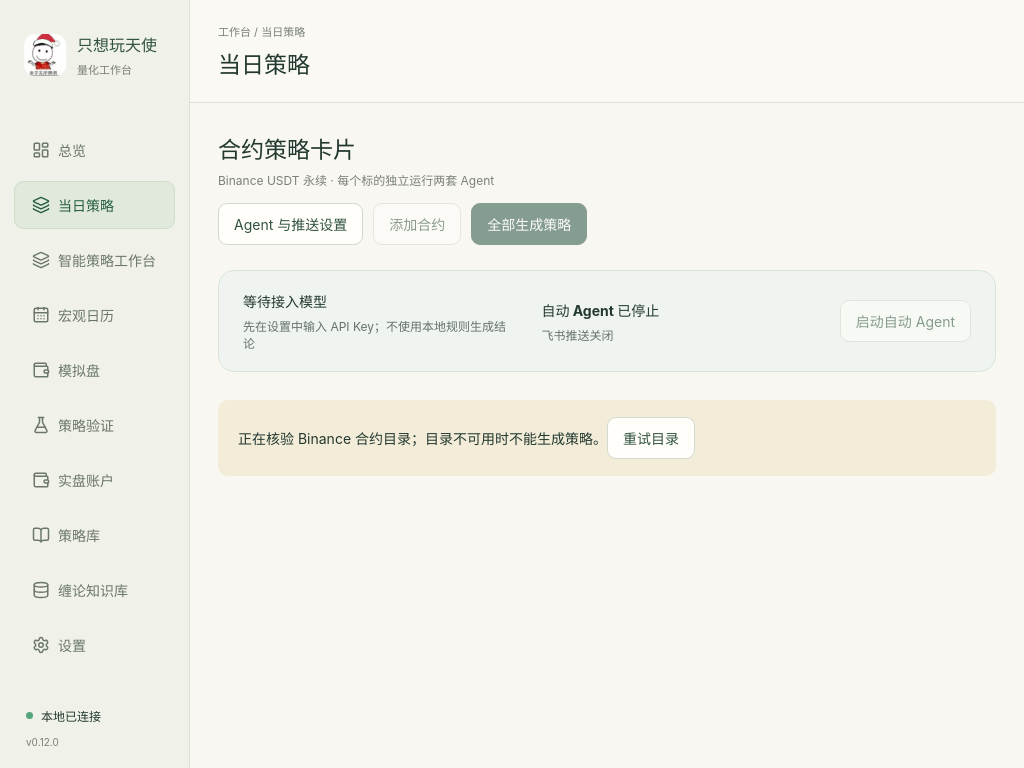
Test case: knowledge base answers with timestamped evidence
This screenshot has width=1024, height=768.
Expected: the heading "合约策略卡片" is shown, [218,136,356,164]
Click the button "缠论知识库".
click(94, 590)  # box [14,566,175,614]
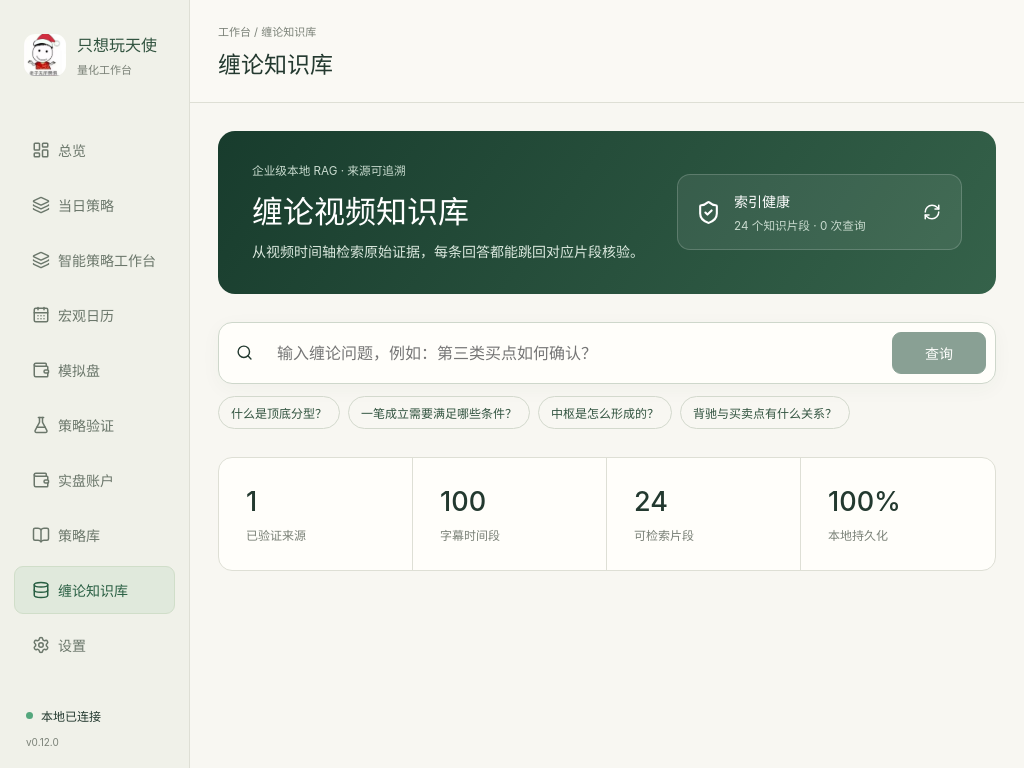
Expected: the text "索引健康" is shown, [734,193,790,210]
Type "顶分型是什么" into the field named "向知识库提问".
click(573, 353); type("顶分型是什么")  # box [265,331,880,375]
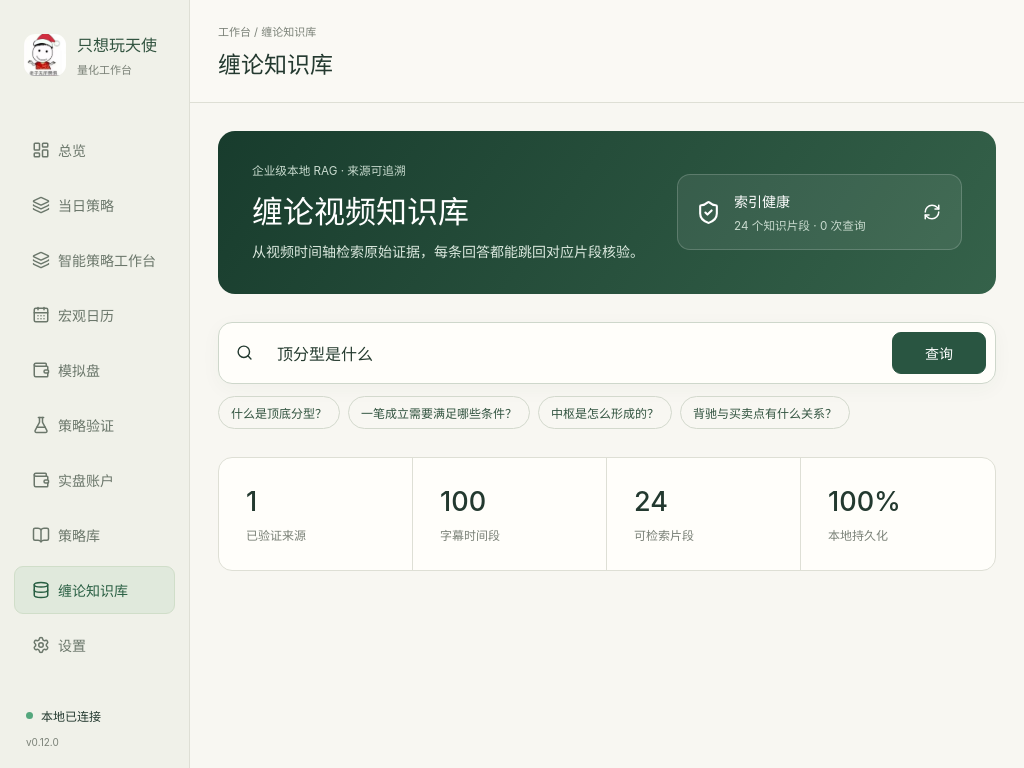
Click the button "查询".
click(939, 353)  # box [892,332,986,374]
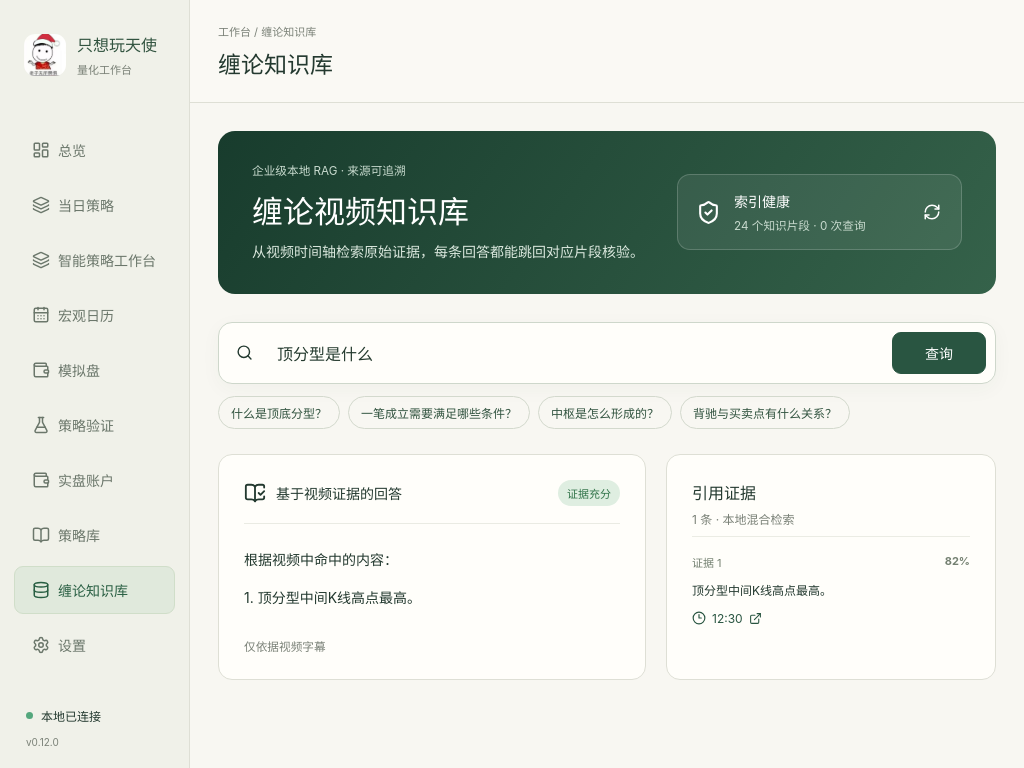
Expected: the text "证据充分" is shown, [558,480,620,506]
